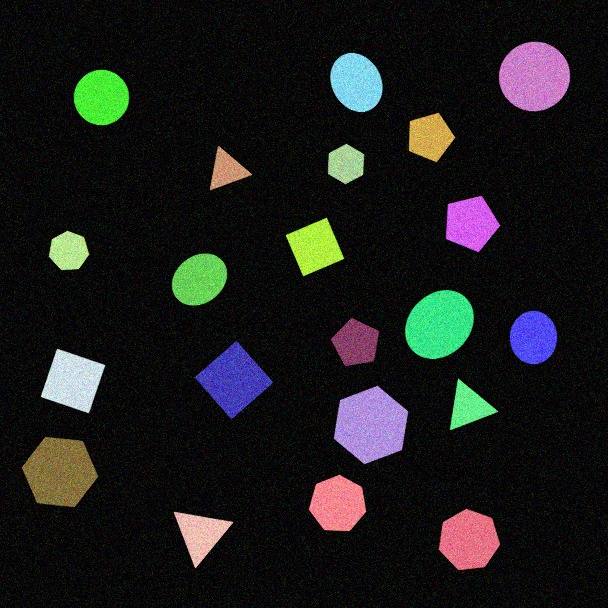Circulo: (498, 41, 571, 112), (73, 69, 130, 126), (509, 310, 558, 365)
Elipse: (404, 289, 475, 360), (330, 52, 383, 113), (171, 253, 228, 306)
Heptagono: (438, 508, 501, 571), (308, 474, 367, 532), (48, 230, 90, 271)
Hexagono: (333, 385, 409, 465), (21, 436, 99, 508), (327, 143, 365, 185)
Pentagono: (445, 195, 501, 253), (330, 317, 380, 367), (408, 112, 456, 163)
Quadrado: (194, 340, 274, 420), (40, 348, 106, 414), (285, 217, 345, 277)
Triangulo: (173, 511, 234, 569), (449, 378, 499, 431), (209, 145, 253, 191)
